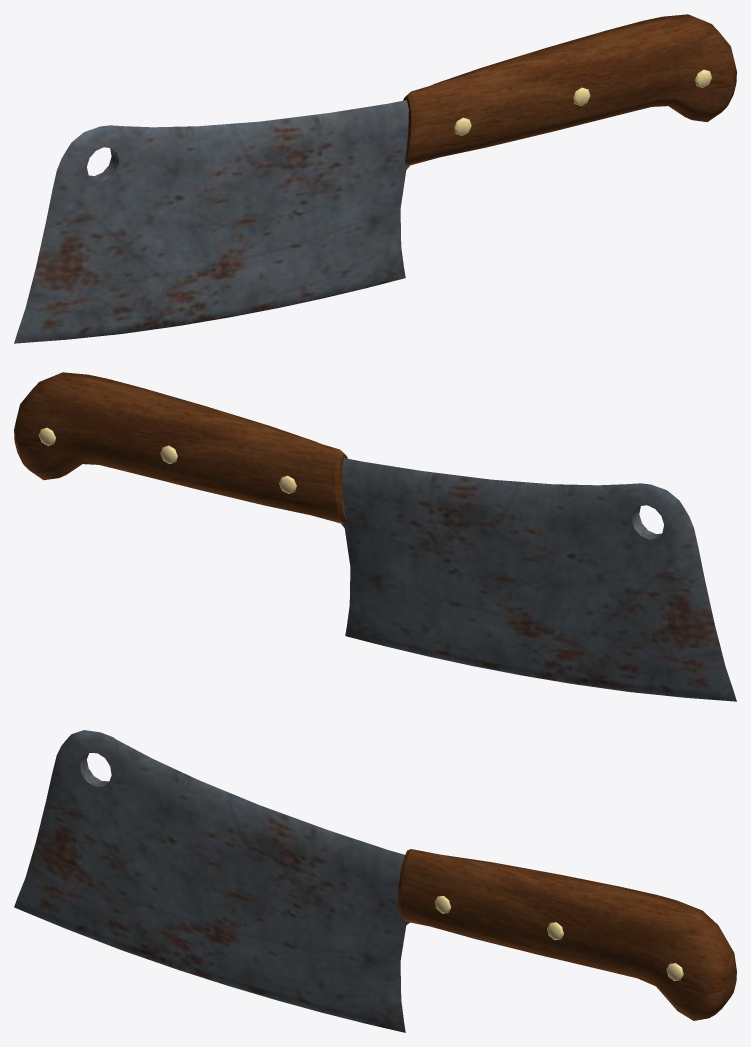
File: cleaver.glb
The picture shows the model from 3 angles, top to bottom: view 1: azimuth 30°, elevation 25°; view 2: azimuth 150°, elevation 25°; view 3: azimuth 330°, elevation 25°; orthographic projection.
Parts seen in each view (by area): view 1: tool; view 2: tool; view 3: tool.
Part boxes in pixels (left/top/right/bottom): tool: left=14, top=14, right=736, bottom=343; tool: left=14, top=372, right=736, bottom=701; tool: left=14, top=730, right=736, bottom=1032.
Bounding box in the file's own units: 0.2872 × 0.0869 × 0.0217.
1 material, 1 textured.
